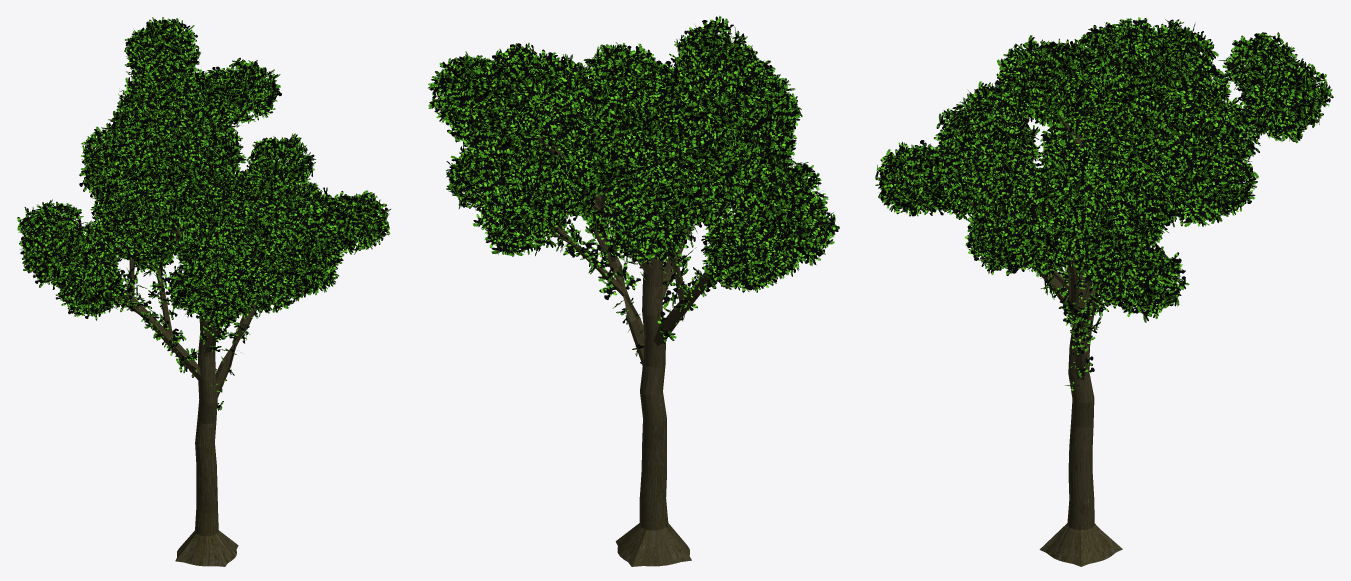
The model's file is emergent_fig_v01.fbx.
The picture shows the model from 3 angles, left to right: view 1: azimuth 30°, elevation 25°; view 2: azimuth 150°, elevation 25°; view 3: azimuth 270°, elevation 25°; orthographic projection. The views are drawn at different scales.
Visible parts, largest first — view 1: emergent_fig_v01; view 2: emergent_fig_v01; view 3: emergent_fig_v01.
Part boxes in pixels (<box>): emergent_fig_v01: <box>17,17,390,566</box>; emergent_fig_v01: <box>428,15,839,566</box>; emergent_fig_v01: <box>875,17,1333,566</box>.
Size of the model in its own units: 2908 by 3336 by 4263.
2 materials, 2 textured.
